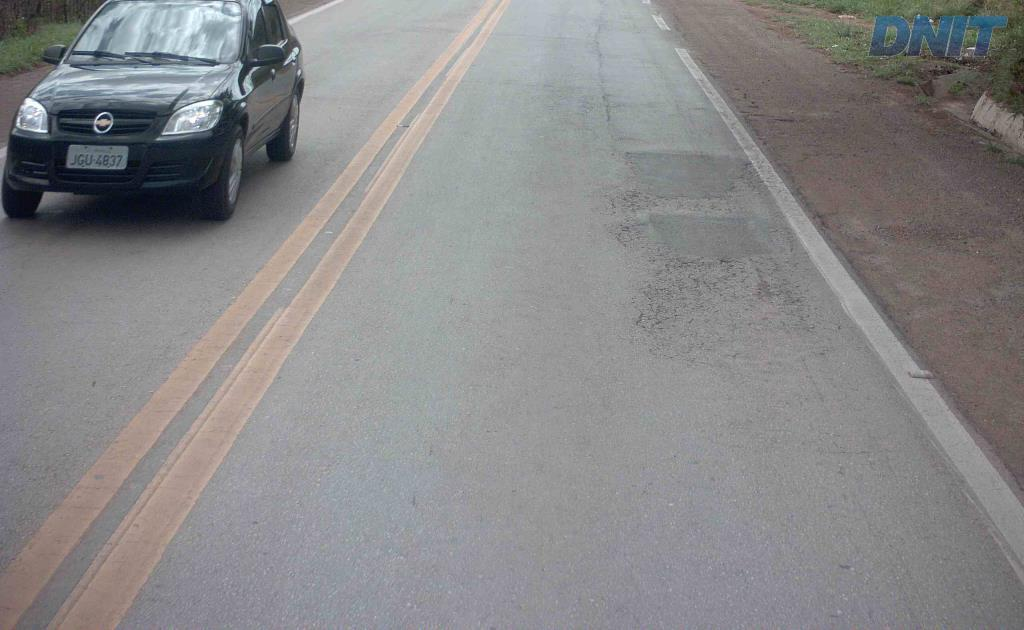crack: (753, 274, 805, 306)
